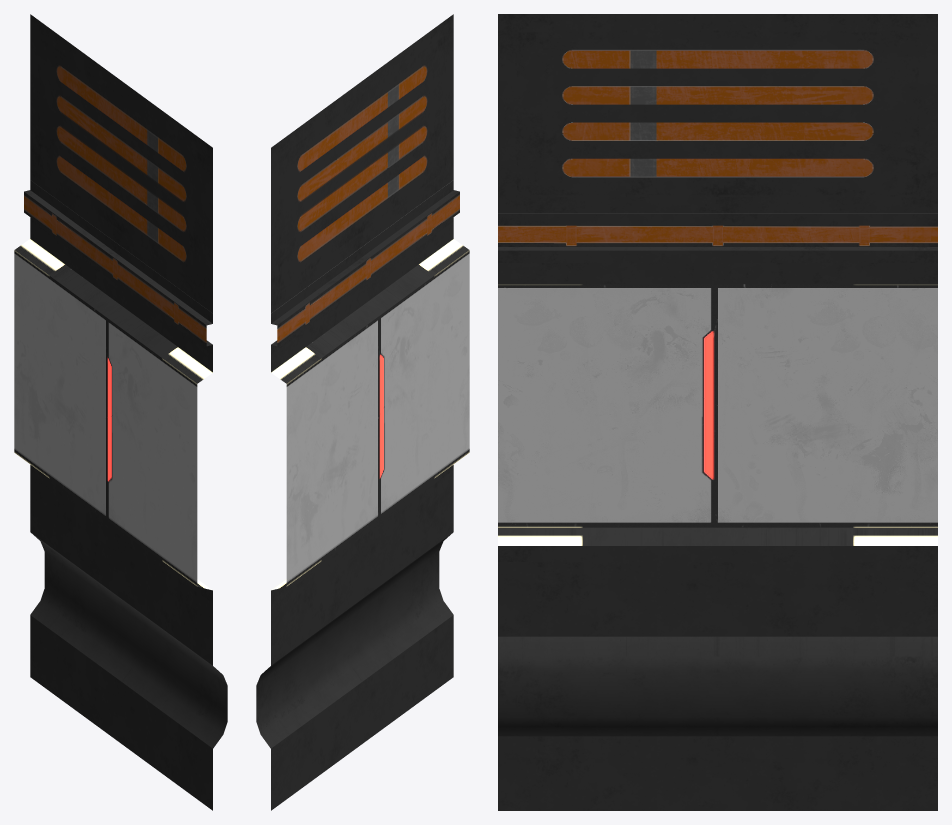
The model's file is SHalfWallLeft.fbx.
The picture shows the model from 3 angles, left to right: view 1: azimuth 30°, elevation 25°; view 2: azimuth 150°, elevation 25°; view 3: azimuth 270°, elevation 25°; orthographic projection. The views are drawn at different scales.
Visible parts, largest first — view 1: SHalfWallLeft; view 2: SHalfWallLeft; view 3: SHalfWallLeft.
Boxes of the visible parts, x1,y1,x2,y2 form: SHalfWallLeft: (14,14,227,810); SHalfWallLeft: (256,14,469,810); SHalfWallLeft: (498,14,937,810).
Bounding box in the file's own units: 23.82 × 500 × 250.
